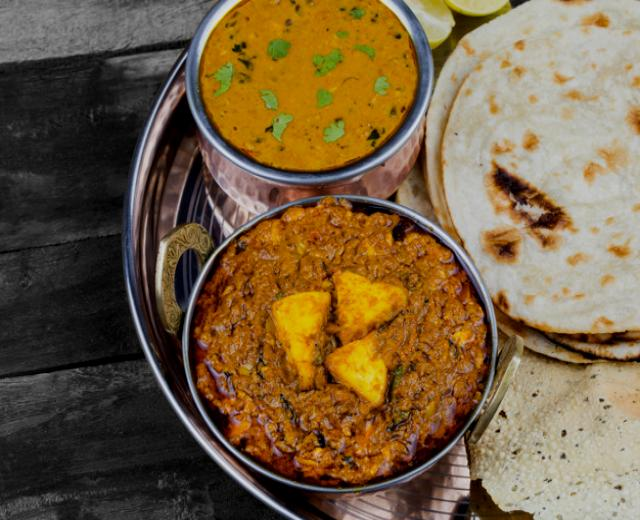kadai paneer: (191, 199, 489, 467)
